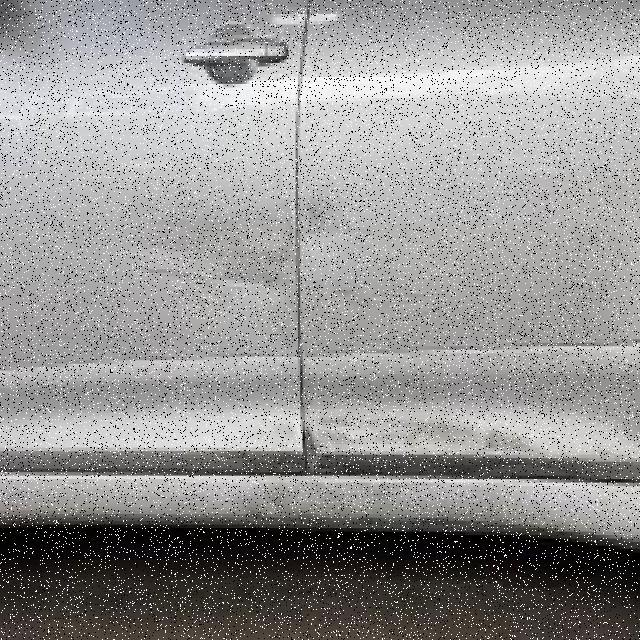RunningBoard-Dent: (5, 441, 431, 536)
doorouter-dent: (296, 4, 638, 476), (5, 0, 300, 472)
